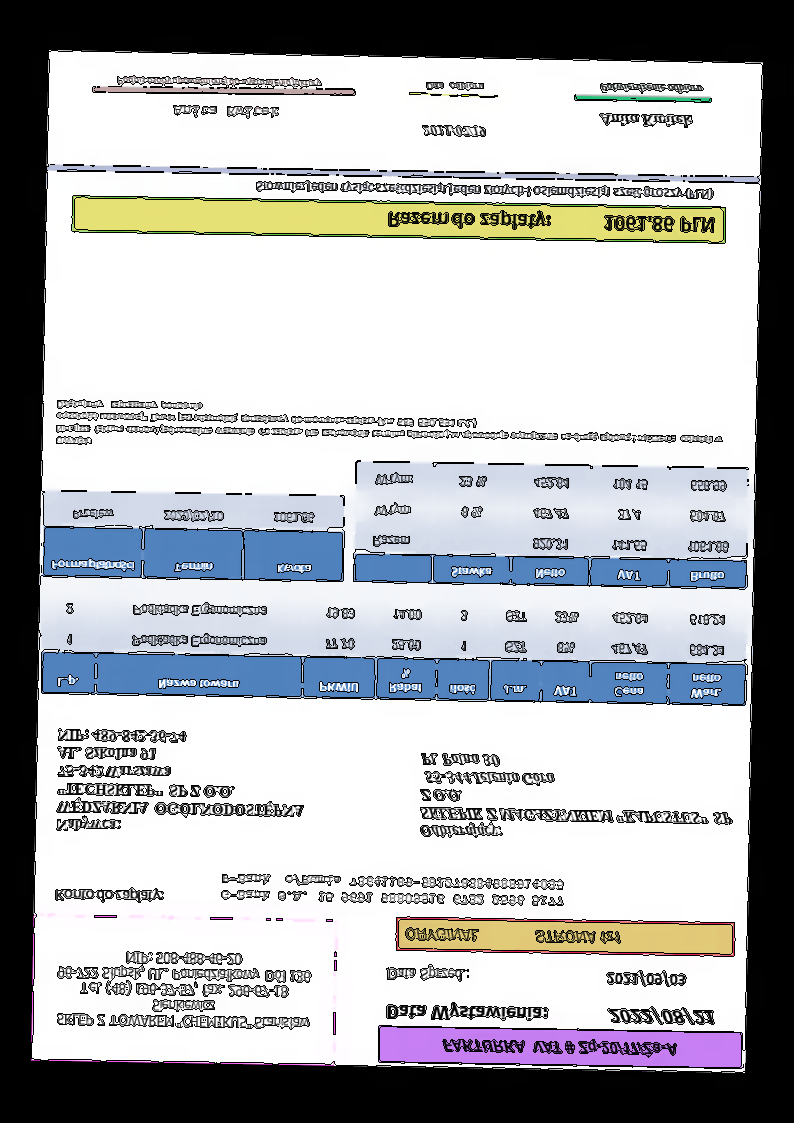Table: (39, 585, 748, 709), (350, 459, 750, 590), (41, 488, 348, 584)
TextBox: (53, 397, 726, 461), (416, 748, 735, 844), (52, 723, 310, 839), (49, 946, 316, 1035), (215, 871, 568, 909), (252, 178, 715, 205), (385, 209, 718, 239), (437, 1034, 683, 1063), (403, 924, 623, 948), (383, 999, 551, 1026), (113, 74, 325, 91), (607, 1006, 717, 1030), (50, 884, 166, 906), (382, 964, 474, 985), (171, 103, 278, 121), (595, 112, 696, 130), (598, 80, 707, 95), (604, 969, 689, 987), (421, 123, 490, 140), (424, 80, 489, 94)
